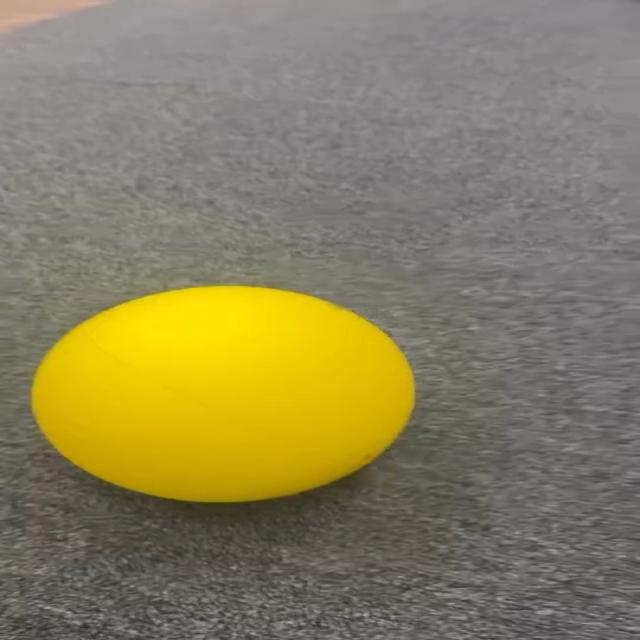Fuels: (29, 282, 410, 498)
